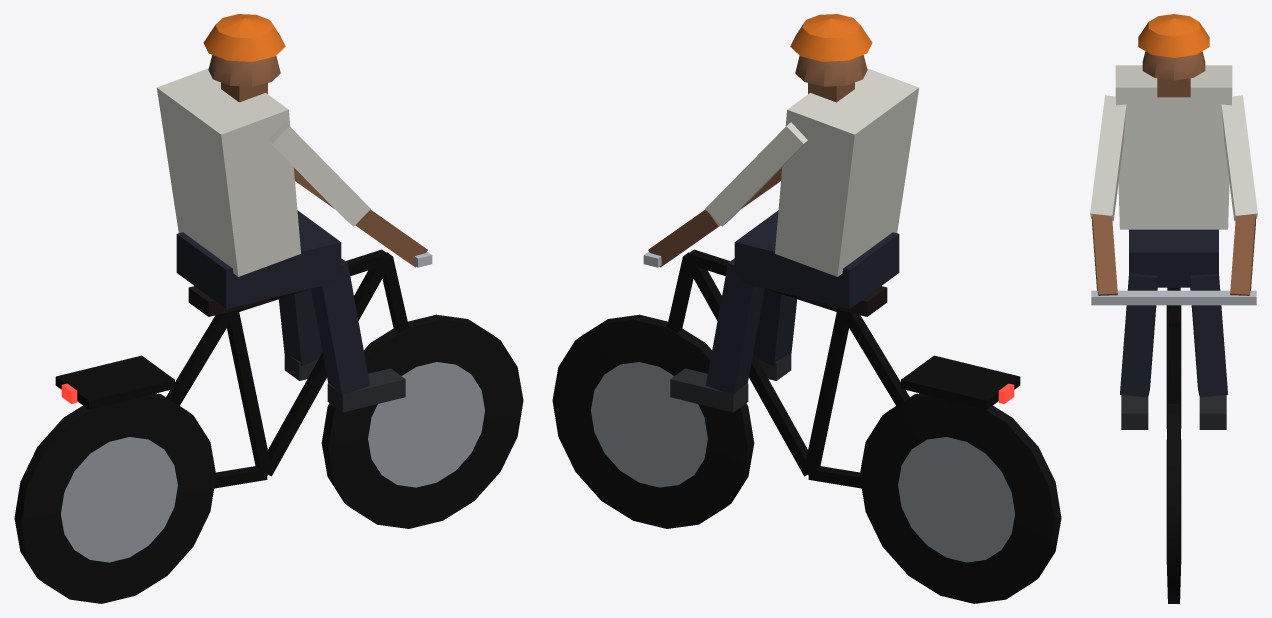
Rendered from bicycle.glb.
3 renders of one model, left to right at view 1: azimuth 30°, elevation 25°; view 2: azimuth 150°, elevation 25°; view 3: azimuth 270°, elevation 25°, orthographic. The views are drawn at different scales.
Visible parts, largest first — view 1: bicycle_body, wheel_r.002, wheel_f.004; view 2: bicycle_body, wheel_r.002, wheel_f.004; view 3: bicycle_body, wheel_f.004, wheel_r.002.
Boxes of the visible parts, bbox=[...] form: bicycle_body: bbox=[55, 14, 432, 488]; wheel_r.002: bbox=[14, 393, 216, 603]; wheel_f.004: bbox=[321, 314, 523, 528]; bicycle_body: bbox=[643, 14, 1020, 488]; wheel_r.002: bbox=[859, 393, 1061, 603]; wheel_f.004: bbox=[552, 314, 754, 528]; bicycle_body: bbox=[1090, 14, 1257, 429]; wheel_f.004: bbox=[1166, 400, 1181, 603]; wheel_r.002: bbox=[1166, 287, 1181, 428].
Size of the model in its own units: 1.75 by 1.82 by 0.5586.
2 materials, 1 textured.
